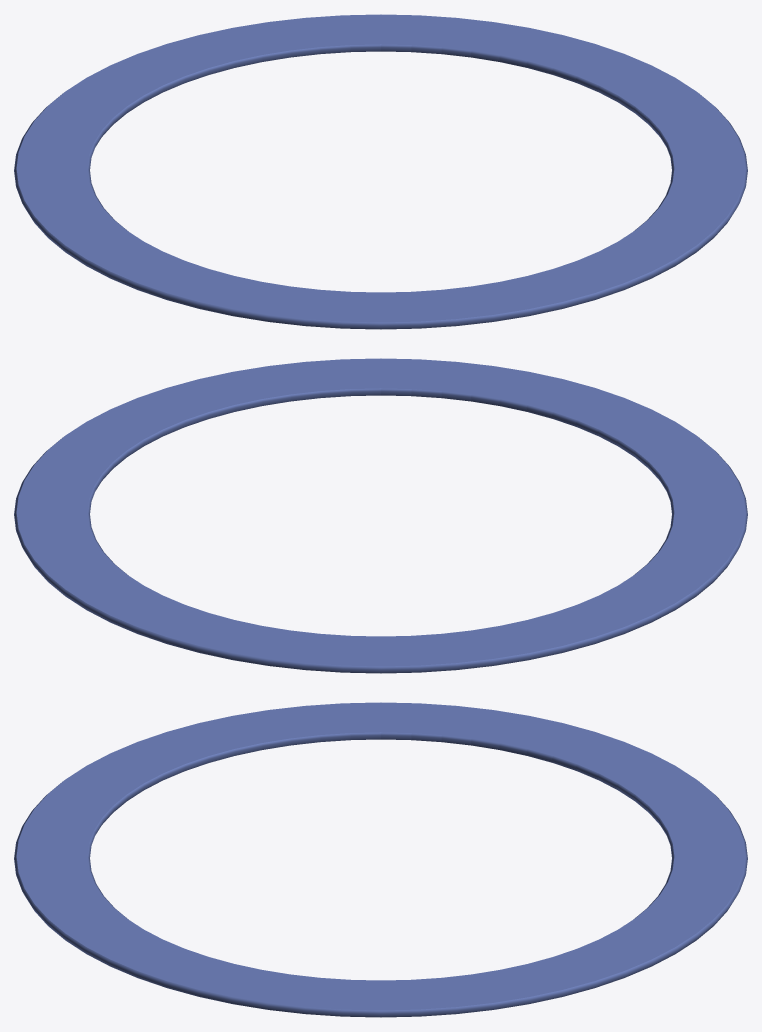
The model's file is Cylindre_Watch_04.fbx.
The picture shows the model from 3 angles, top to bottom: view 1: azimuth 30°, elevation 25°; view 2: azimuth 150°, elevation 25°; view 3: azimuth 270°, elevation 25°; orthographic projection.
Visible parts, largest first — view 1: Cylindre_Watch_04; view 2: Cylindre_Watch_04; view 3: Cylindre_Watch_04.
Boxes of the visible parts, x1,y1,x2,y2 form: Cylindre_Watch_04: (14, 14, 747, 329); Cylindre_Watch_04: (14, 358, 747, 673); Cylindre_Watch_04: (14, 702, 747, 1017).
Bounding box in the file's own units: 71.08 × 0.751 × 71.08.
